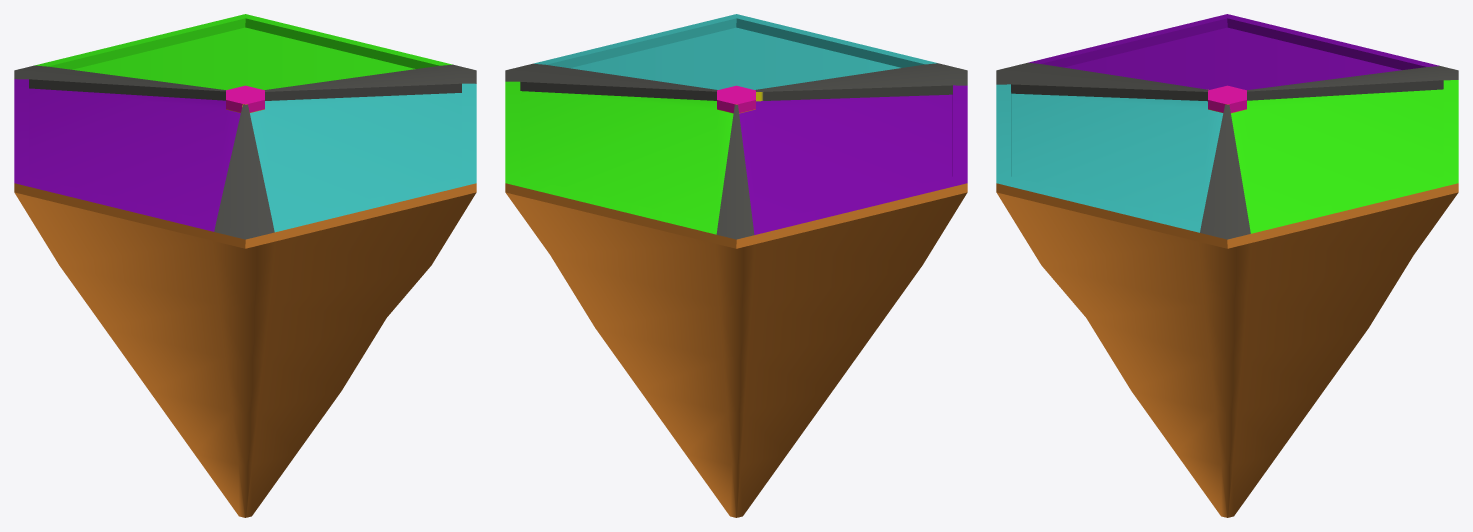
Rendered from color shap 6.FBX.
3 renders of one model, left to right at view 1: azimuth 30°, elevation 25°; view 2: azimuth 150°, elevation 25°; view 3: azimuth 270°, elevation 25°, orthographic.
Visible parts, largest first — view 1: Cone001; view 2: Cone001; view 3: Cone001.
Boxes of the visible parts, box(x1,y1,x2,y2) form: Cone001: box(14, 14, 476, 517); Cone001: box(505, 14, 967, 517); Cone001: box(996, 14, 1458, 517).
Size of the model in its own units: 169 by 146 by 146.
1 material, 1 textured.
